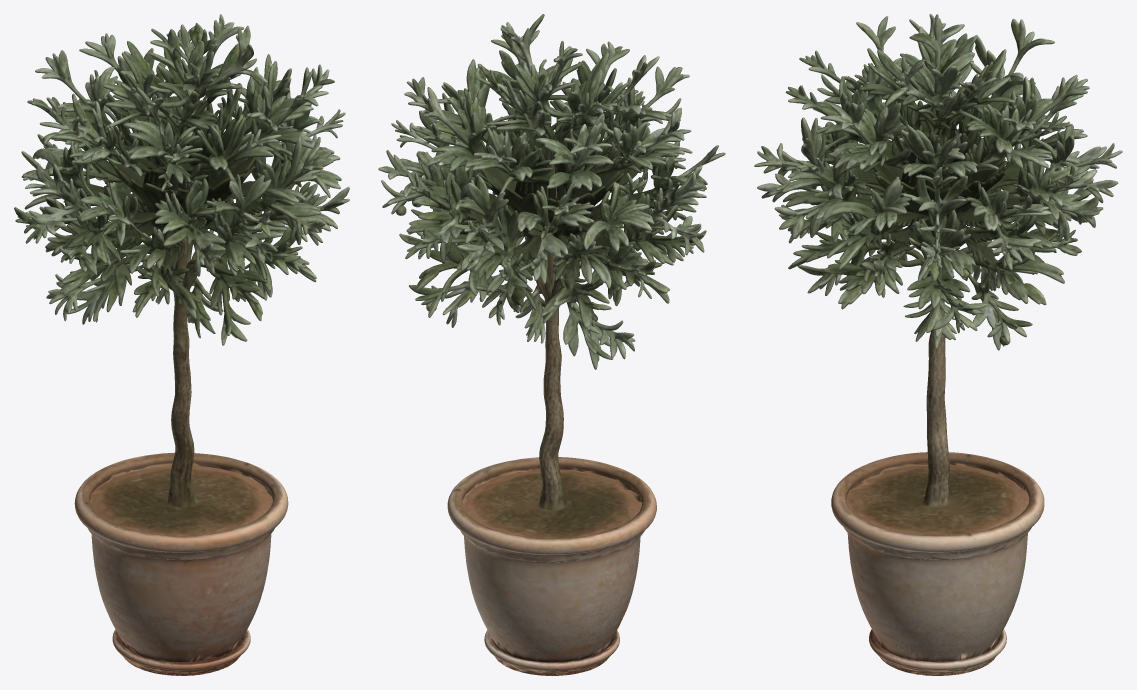
File: olivier-pot.glb
3 views of the same model, side by side, from view 1: azimuth 30°, elevation 25°; view 2: azimuth 150°, elevation 25°; view 3: azimuth 270°, elevation 25° (orthographic). The views are drawn at different scales.
Visible parts, largest first — view 1: tripo_node_181a271f-b3a8-4a68-bdf2-df9bb177c697; view 2: tripo_node_181a271f-b3a8-4a68-bdf2-df9bb177c697; view 3: tripo_node_181a271f-b3a8-4a68-bdf2-df9bb177c697.
Boxes of the visible parts, x1=… form: tripo_node_181a271f-b3a8-4a68-bdf2-df9bb177c697: x1=14, y1=14, x2=349, y2=675; tripo_node_181a271f-b3a8-4a68-bdf2-df9bb177c697: x1=378, y1=14, x2=725, y2=675; tripo_node_181a271f-b3a8-4a68-bdf2-df9bb177c697: x1=754, y1=14, x2=1122, y2=675.
Bounding box in the file's own units: 0.5265 × 0.9785 × 0.522.
1 material, 1 textured.
